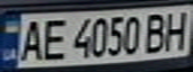0: (121, 12, 145, 55), (90, 14, 109, 58)
4: (69, 15, 93, 60)
5: (106, 14, 127, 57)
A: (18, 16, 48, 63)
B: (142, 10, 172, 54)
E: (36, 16, 69, 62)
H: (160, 8, 193, 52)
